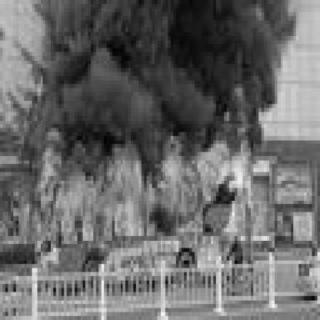Smoke: (31, 0, 296, 156)
